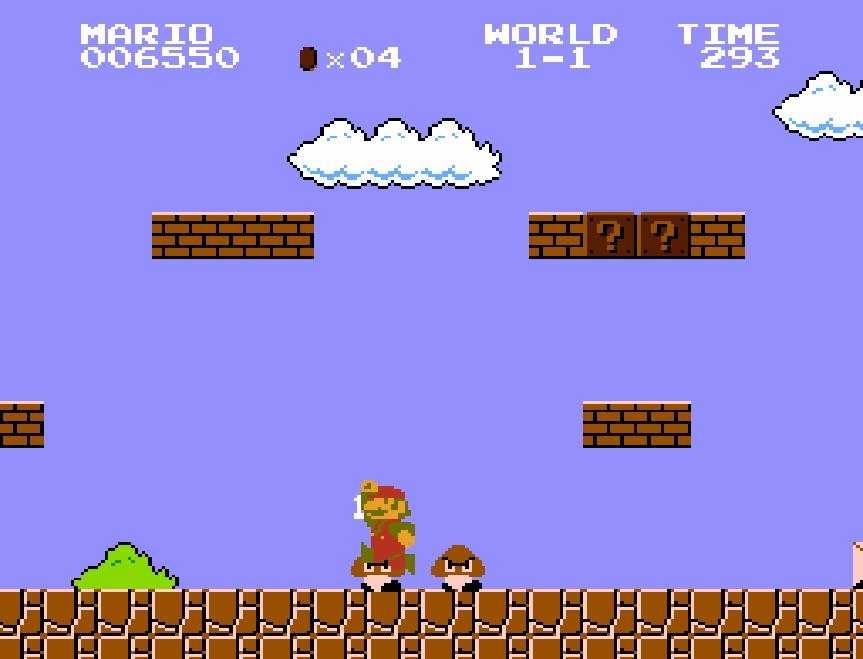big_mario: (358, 478, 416, 576)
